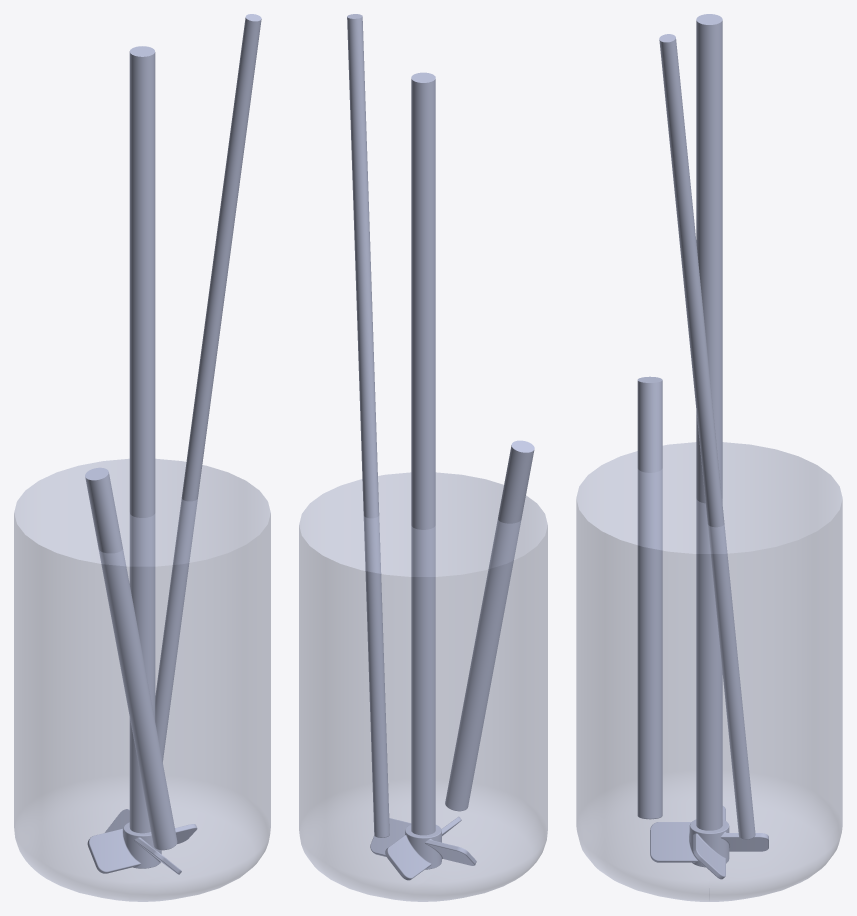
The model's file is TSHO_Optimax_3d.glb.
3 renders of one model, left to right at view 1: azimuth 30°, elevation 25°; view 2: azimuth 150°, elevation 25°; view 3: azimuth 270°, elevation 25°, orthographic. The views are drawn at different scales.
Visible parts, largest first — view 1: Tank, Imp, Tr, IR; view 2: Tank, Imp, Tr, IR; view 3: Tank, Imp, Tr, IR.
Boxes of the visible parts, x1,y1,x2,y2 form: Tank: (14,459,270,901); Imp: (87,46,197,874); Tr: (155,14,261,762); IR: (85,467,177,850); Tank: (299,472,547,901); Imp: (370,72,476,880); Tr: (347,14,389,837); IR: (445,440,534,811); Tank: (576,442,842,901); Imp: (650,14,768,879); Tr: (659,34,755,839); IR: (637,376,662,819).
Size of the model in its own units: 0.1003 by 0.3718 by 0.1009.
